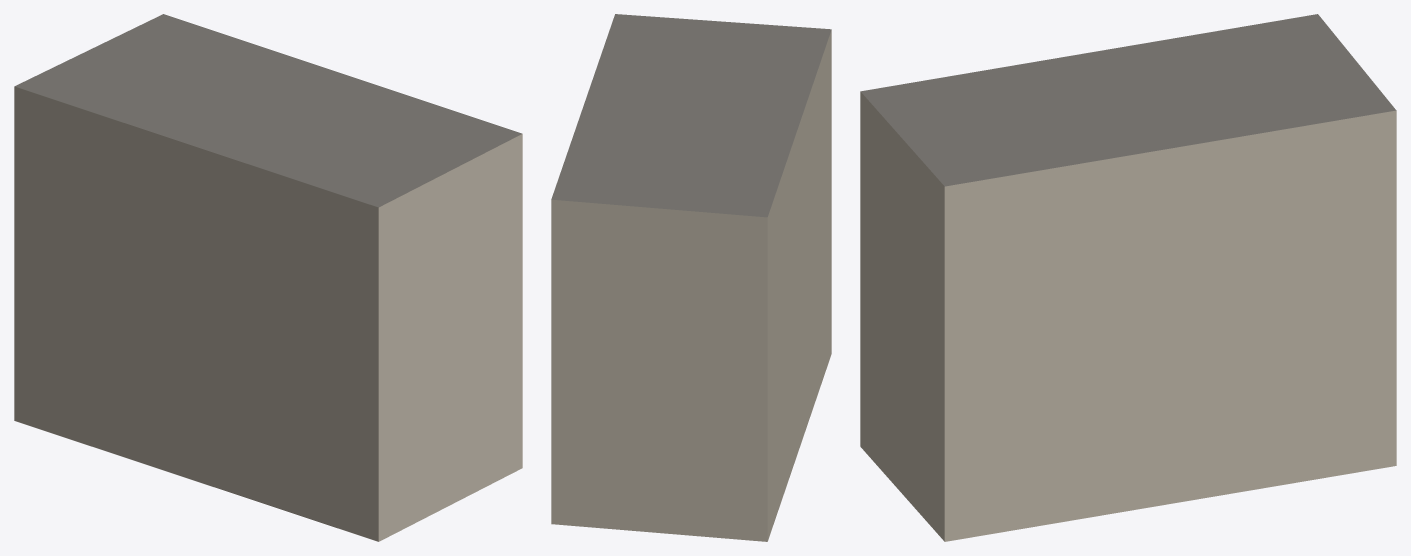
3 renders of one model, left to right at view 1: azimuth 30°, elevation 25°; view 2: azimuth 150°, elevation 25°; view 3: azimuth 270°, elevation 25°, orthographic. The views are drawn at different scales.
Visible parts, largest first — view 1: HP-w380339916; view 2: HP-w380339916; view 3: HP-w380339916.
Boxes of the visible parts, x1,y1,x2,y2 form: HP-w380339916: (14,14,522,541); HP-w380339916: (551,14,831,541); HP-w380339916: (860,14,1396,541).
Size of the model in its own units: 18.74 by 18 by 24.6.
